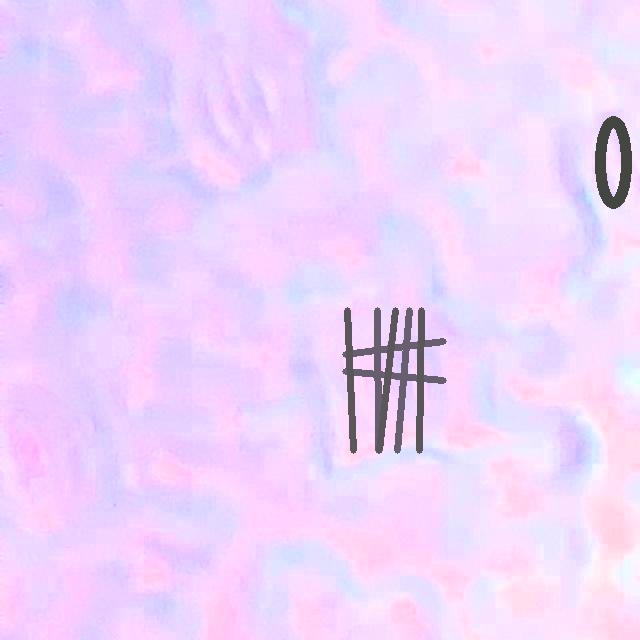close: (342, 307, 446, 453)
open: (594, 115, 632, 209)
